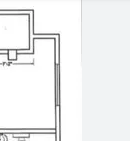window: (51, 60, 64, 108)
